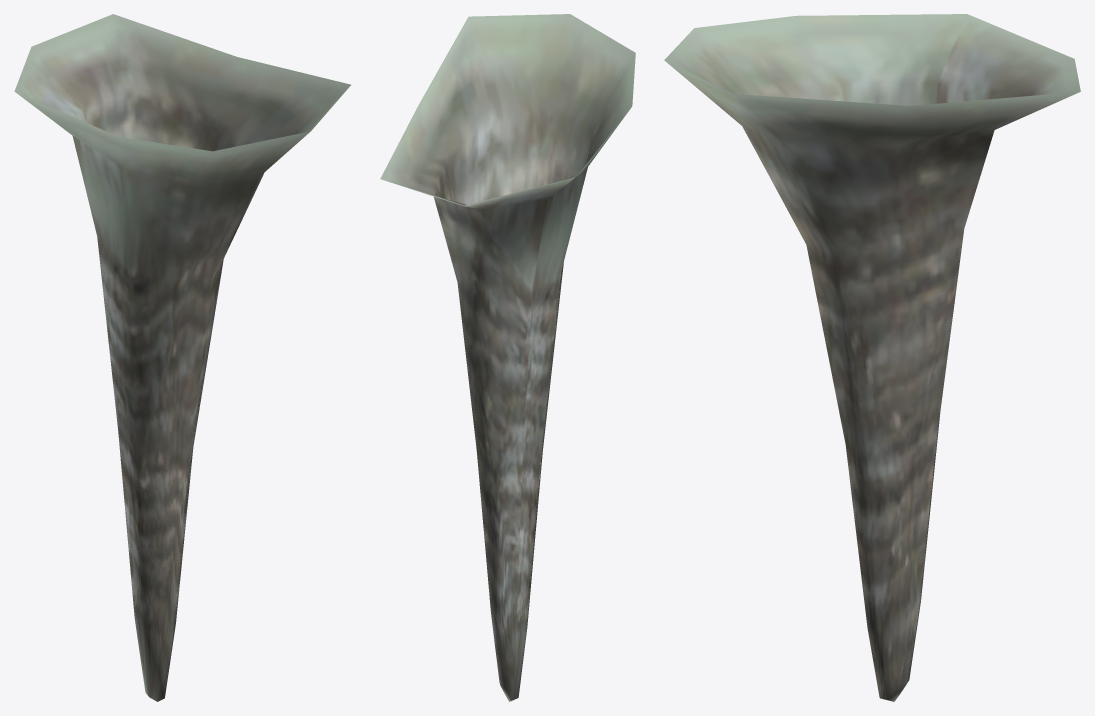
The model's file is TROLLHOLE02_PS-MAINSTALAG28.fbx.
3 renders of one model, left to right at view 1: azimuth 30°, elevation 25°; view 2: azimuth 150°, elevation 25°; view 3: azimuth 270°, elevation 25°, orthographic. The views are drawn at different scales.
Visible parts, largest first — view 1: TROLLHOLE02_PS-MAINSTALAG28; view 2: TROLLHOLE02_PS-MAINSTALAG28; view 3: TROLLHOLE02_PS-MAINSTALAG28.
Part boxes in pixels (box(x1,y1,x2,y2)): TROLLHOLE02_PS-MAINSTALAG28: box(14, 14, 350, 701); TROLLHOLE02_PS-MAINSTALAG28: box(380, 14, 635, 701); TROLLHOLE02_PS-MAINSTALAG28: box(664, 14, 1080, 701).
Size of the model in its own units: 11985 by 32536 by 18372.
1 material, 1 textured.
